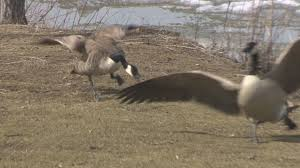goose: (180, 37, 300, 140), (38, 23, 151, 110)
